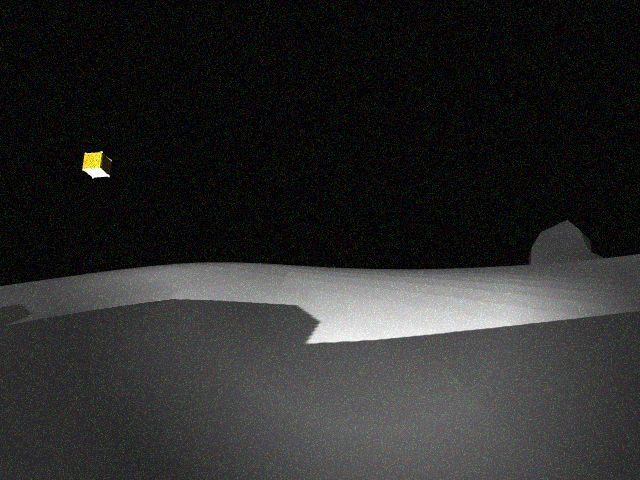cubesat: (76, 145, 122, 186)
